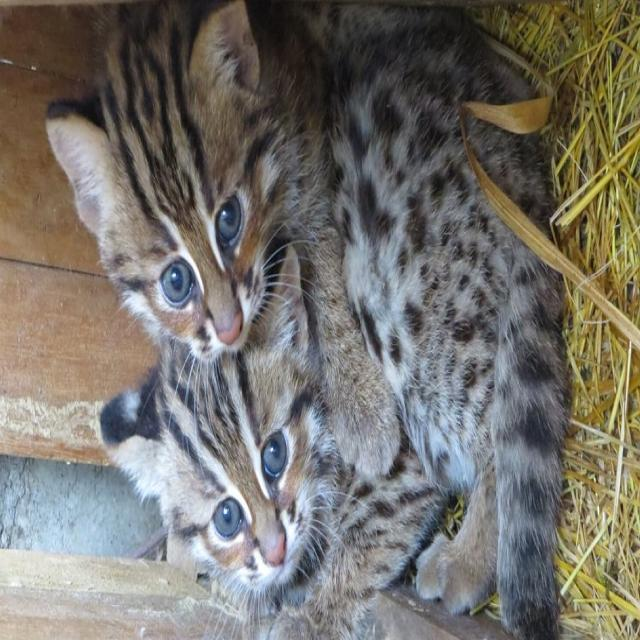leopard: (143, 350, 480, 640), (67, 76, 296, 334)
